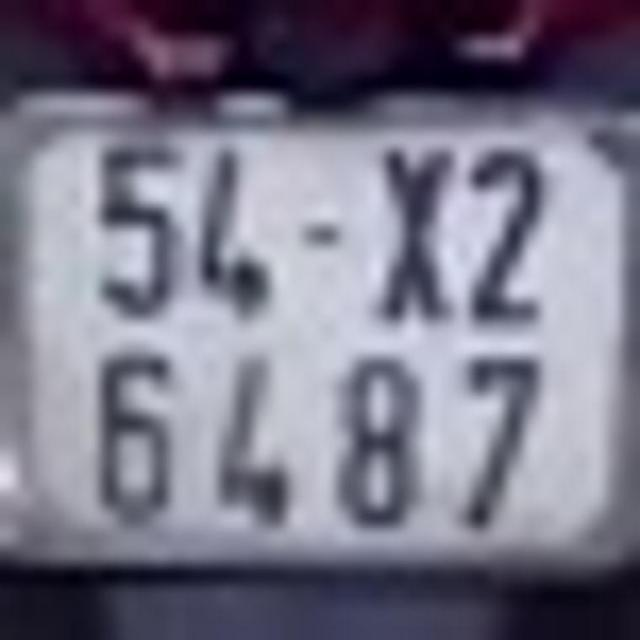2: (468, 148, 550, 324)
4: (200, 144, 279, 338), (212, 353, 294, 530)
5: (96, 140, 188, 324)
6: (92, 347, 184, 530)
7: (456, 343, 556, 544)
8: (339, 354, 424, 540)
X: (375, 140, 460, 324)
